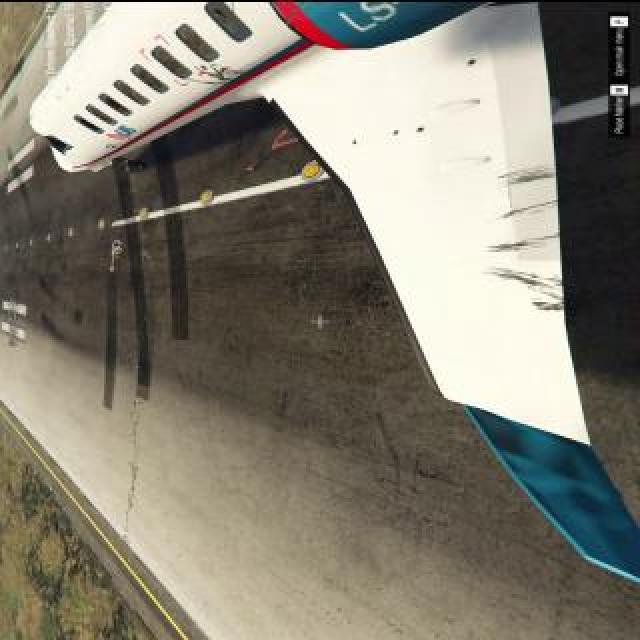crack: (463, 53, 483, 65), (416, 125, 432, 133), (392, 127, 404, 135), (348, 137, 360, 145)
dent: (486, 270, 539, 285), (509, 169, 557, 184), (203, 65, 248, 78), (489, 242, 536, 251), (543, 300, 563, 308)
